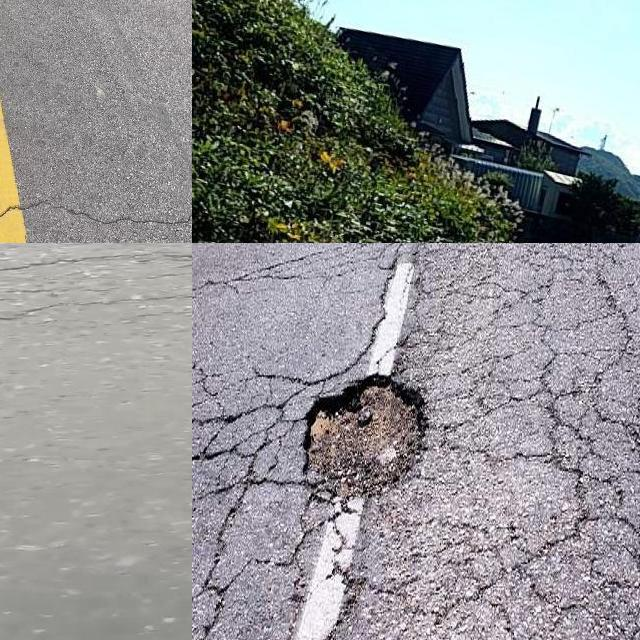Lubang: (301, 374, 438, 489)
Melintang: (0, 189, 192, 236)
Retak Buaya: (192, 243, 640, 640)
